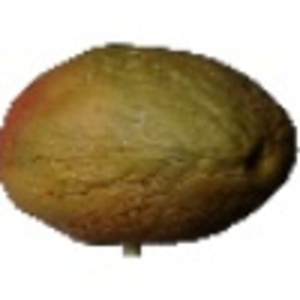mamão: (1, 34, 297, 247)
